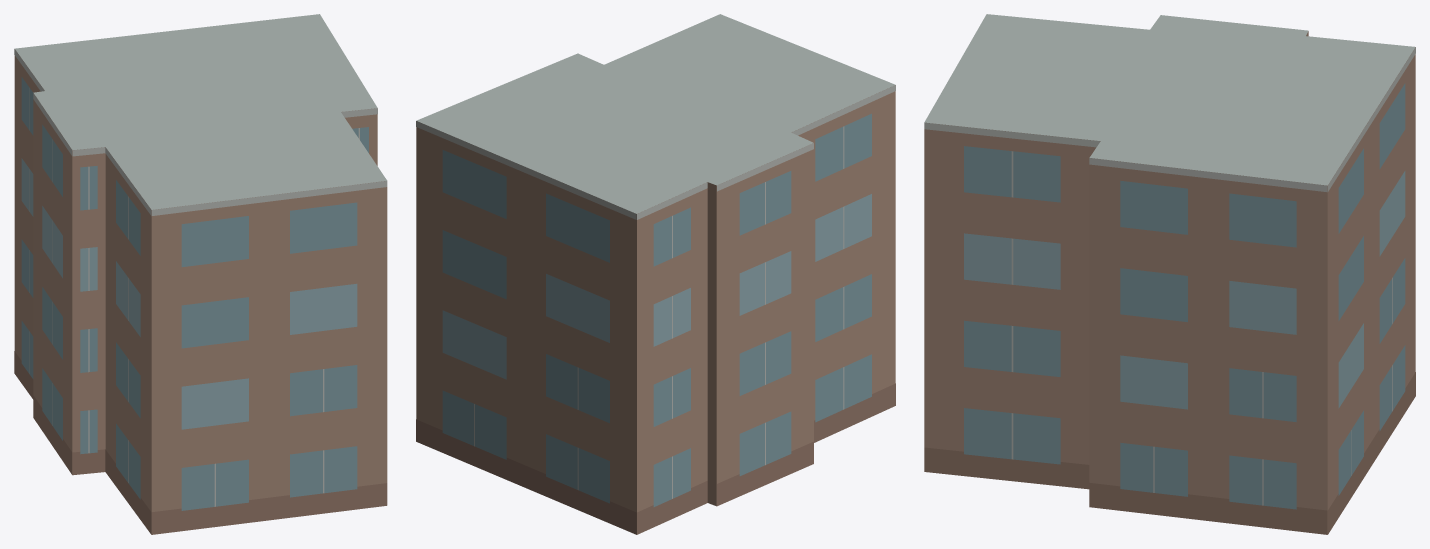
Rendered from survey-upis-32952237.glb.
3 views of the same model, side by side, from view 1: azimuth 30°, elevation 25°; view 2: azimuth 150°, elevation 25°; view 3: azimuth 270°, elevation 25° (orthographic). The views are drawn at different scales.
Visible parts, largest first — view 1: survey-upis-32952237.tmp; view 2: survey-upis-32952237.tmp; view 3: survey-upis-32952237.tmp.
Part boxes in pixels (x1=…): survey-upis-32952237.tmp: x1=14, y1=14, x2=387, y2=534; survey-upis-32952237.tmp: x1=416, y1=14, x2=895, y2=534; survey-upis-32952237.tmp: x1=924, y1=14, x2=1415, y2=534.
Bounding box in the file's own units: 13.39 × 12.7 × 16.21.
